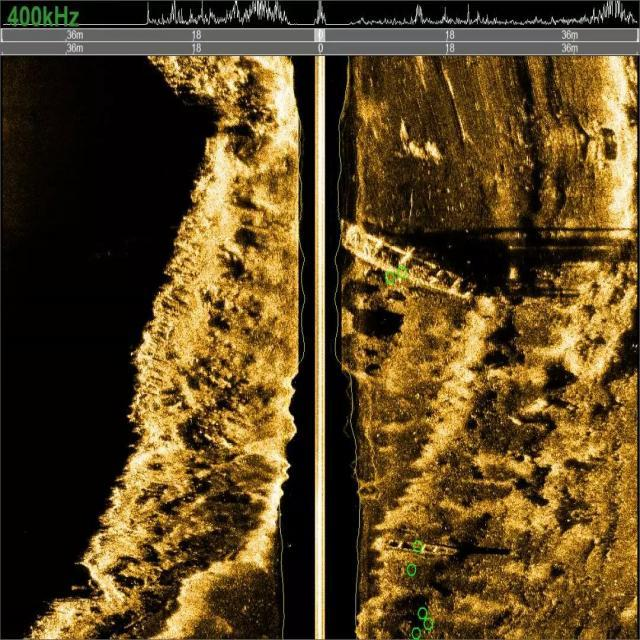shipwreck: (340, 214, 474, 304)
